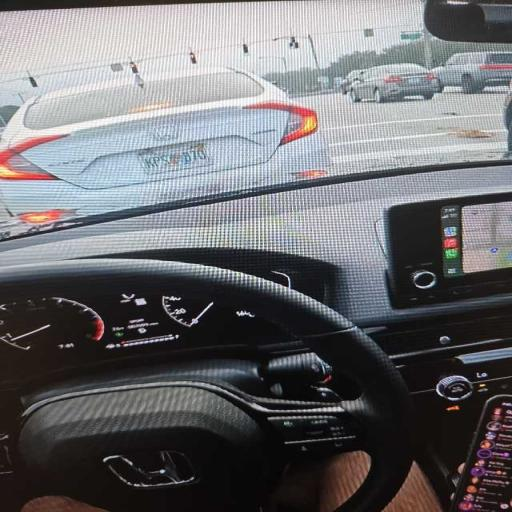car: (0, 0, 511, 511), (0, 68, 328, 214), (349, 64, 437, 102), (436, 52, 511, 93), (504, 83, 511, 155), (340, 70, 360, 94), (431, 67, 443, 93)
lane: (301, 88, 506, 173)
person: (22, 497, 104, 511)
